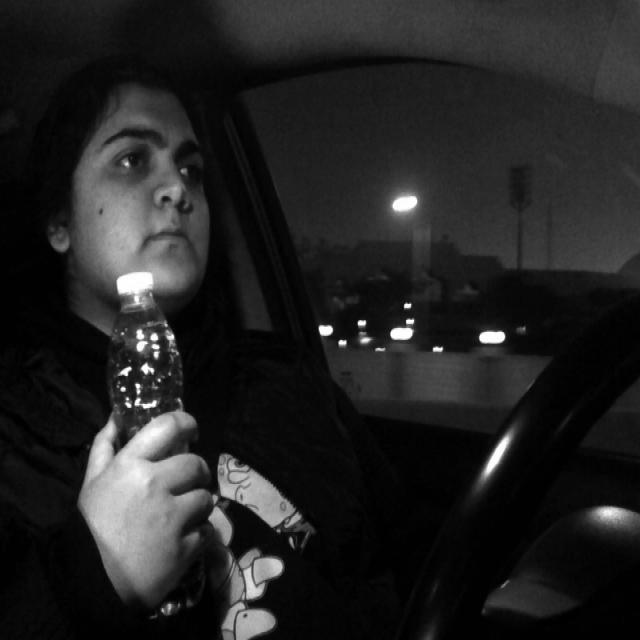Drinking: (110, 269, 192, 421)
